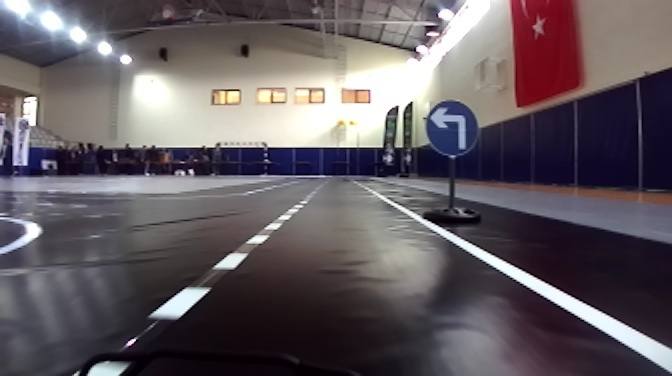sola_donus: (424, 102, 480, 155)
